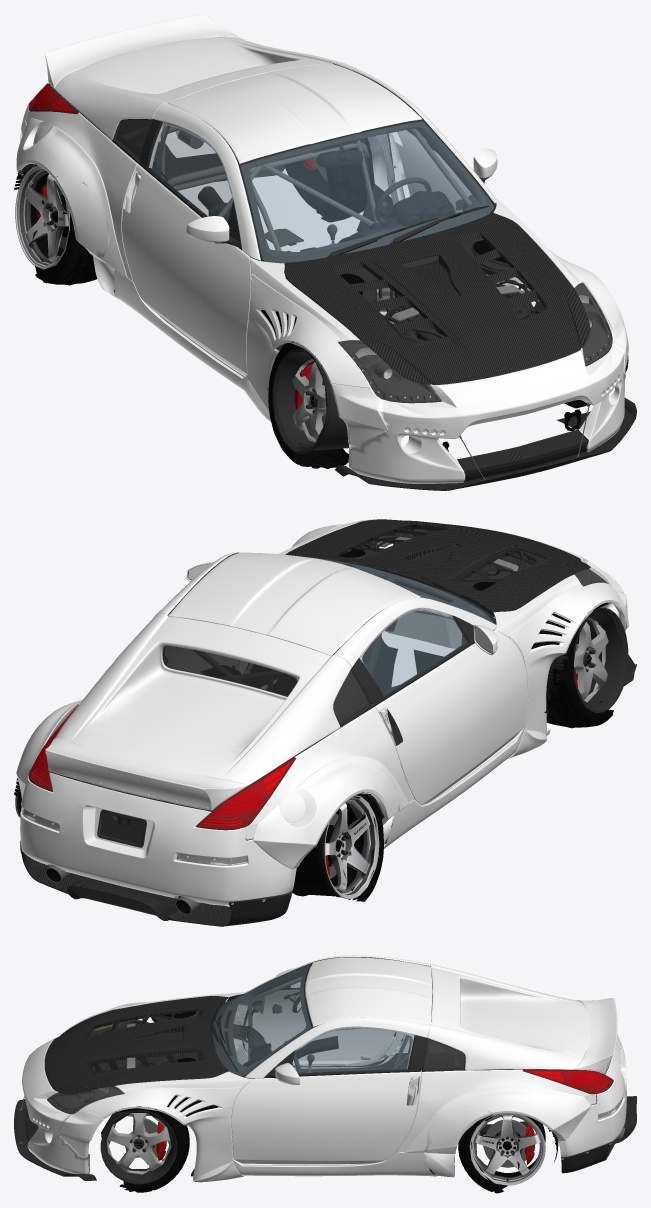
The picture shows the model from 3 angles, top to bottom: view 1: azimuth 30°, elevation 25°; view 2: azimuth 150°, elevation 25°; view 3: azimuth 270°, elevation 25°; orthographic projection. The views are drawn at different scales.
Visible parts, largest first — view 1: object 7, object 36, object 30, object 1, object 8, WFR, object 5, WRR, object 4, object 32, object 26, object 2 (+7 smaller); view 2: object 7, object 1, object 36, object 8, WFR, object 30, object 5, WRR, object 28, object 37, object 2, object 13 (+9 smaller); view 3: object 7, object 1, object 36, object 30, WRL, object 8, WFL, object 5, object 23, object 26, object 2, object 28 (+6 smaller).
Boxes of the visible parts, left/top/right/bottom form: object 7: left=16, top=14, right=628, bottom=483; object 36: left=284, top=212, right=590, bottom=384; object 30: left=149, top=121, right=493, bottom=263; object 1: left=49, top=37, right=421, bottom=163; object 8: left=22, top=63, right=545, bottom=389; WFR: left=268, top=341, right=348, bottom=468; object 5: left=20, top=141, right=636, bottom=490; WRR: left=32, top=176, right=114, bottom=295; object 4: left=339, top=283, right=618, bottom=433; object 32: left=338, top=282, right=612, bottom=403; object 26: left=152, top=126, right=486, bottom=256; object 2: left=15, top=154, right=329, bottom=263; object 7: left=16, top=522, right=628, bottom=905; object 1: left=55, top=552, right=421, bottom=810; object 36: left=285, top=519, right=590, bottom=612; object 8: left=23, top=529, right=551, bottom=865; WFR: left=546, top=600, right=628, bottom=728; object 30: left=303, top=556, right=492, bottom=695; object 5: left=20, top=633, right=636, bottom=926; WRR: left=326, top=767, right=399, bottom=901; object 28: left=28, top=704, right=295, bottom=829; object 37: left=162, top=645, right=297, bottom=696; object 2: left=15, top=781, right=357, bottom=898; object 13: left=29, top=706, right=295, bottom=829; object 7: left=22, top=955, right=626, bottom=1182; object 1: left=305, top=957, right=603, bottom=1073; object 36: left=44, top=996, right=228, bottom=1094; object 30: left=213, top=964, right=413, bottom=1075; WRL: left=424, top=1106, right=521, bottom=1193; object 8: left=58, top=957, right=622, bottom=1176; WFL: left=100, top=1106, right=188, bottom=1192; object 5: left=14, top=1024, right=636, bottom=1180; object 23: left=224, top=986, right=406, bottom=1073; object 26: left=221, top=965, right=409, bottom=1072; object 2: left=499, top=1113, right=545, bottom=1185; object 28: left=523, top=1069, right=613, bottom=1094.
Bounding box in the file's own units: 1.96 × 1.27 × 4.4.
Materials: 37 (7 with a texture image).
